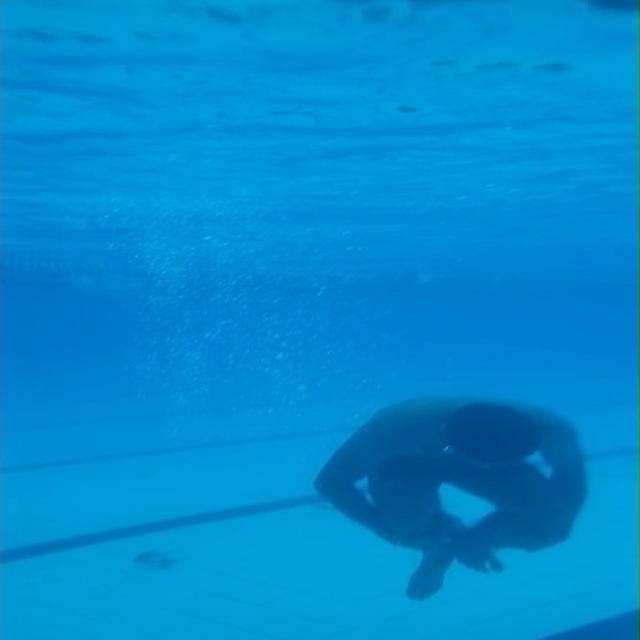Drowning: (320, 393, 593, 602)
